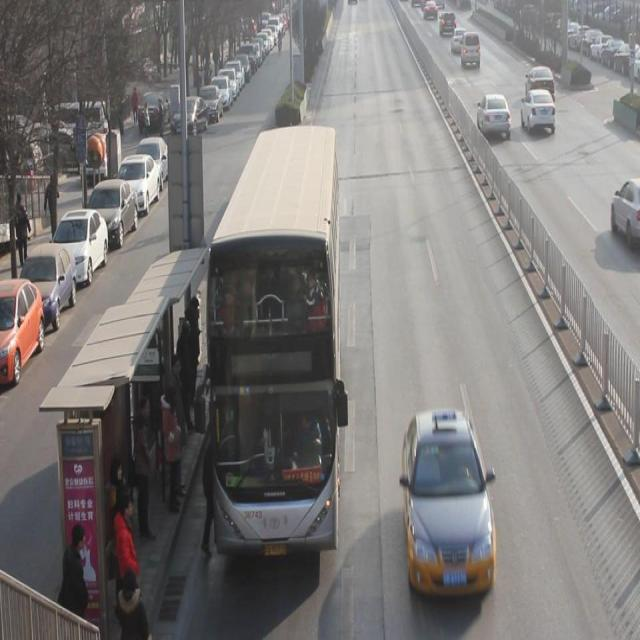car: (399, 412, 497, 591), (611, 179, 640, 239), (519, 89, 556, 135), (476, 93, 512, 139), (524, 65, 555, 100), (438, 12, 456, 38), (451, 27, 466, 52)
truck: (460, 30, 481, 68)
van: (205, 132, 338, 551)
